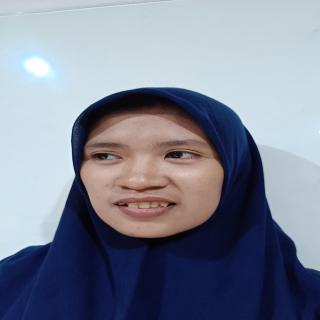Takut: (77, 100, 238, 243)
